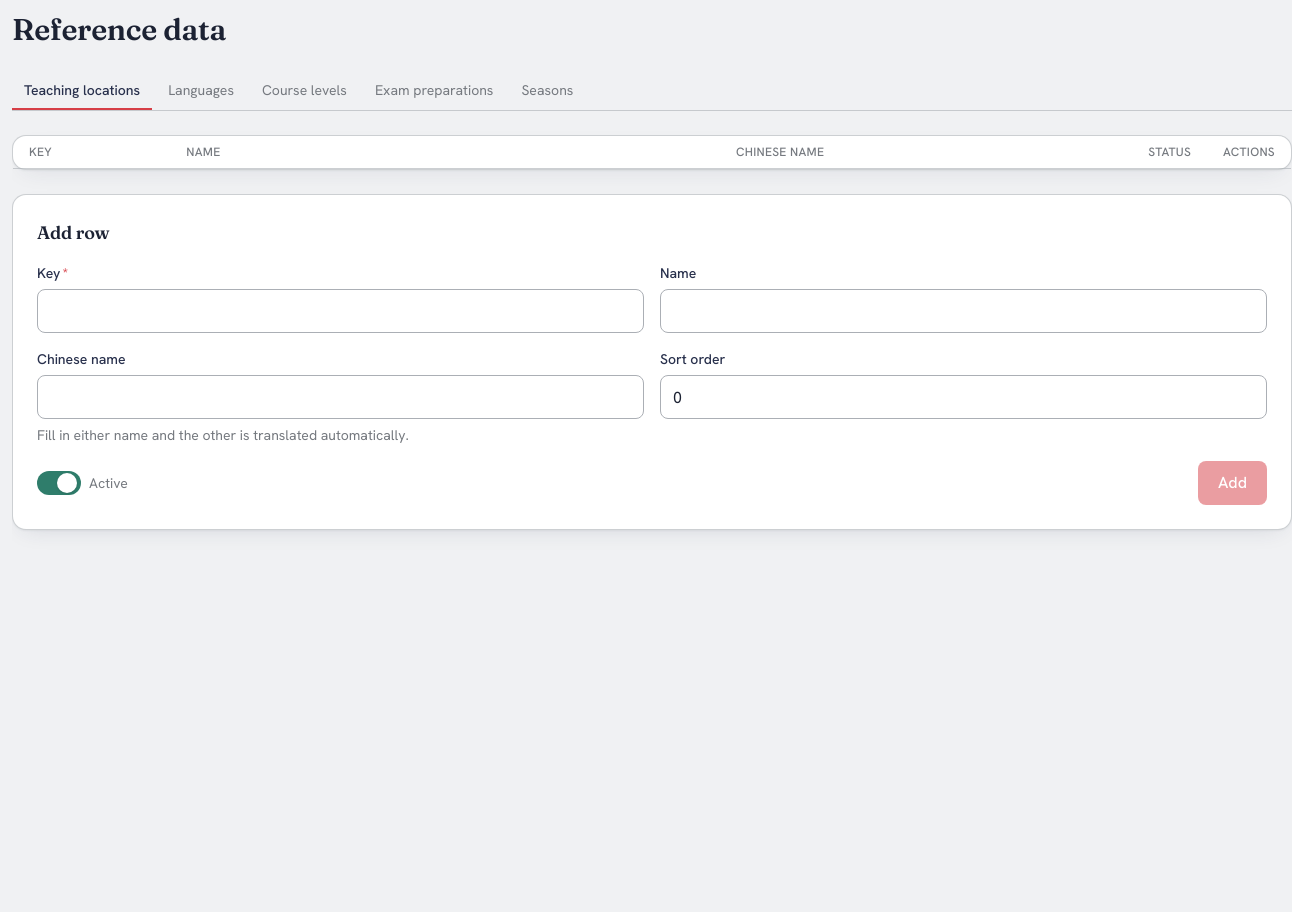
Test: ReferenceManagerPage seasons › adds a season, prefilling Nov 1 to Apr 30 from the key
The width and height of the screenshot is (1292, 912).
Step 1. Click the button "Seasons" → (547, 91), box [510,72,585,110]
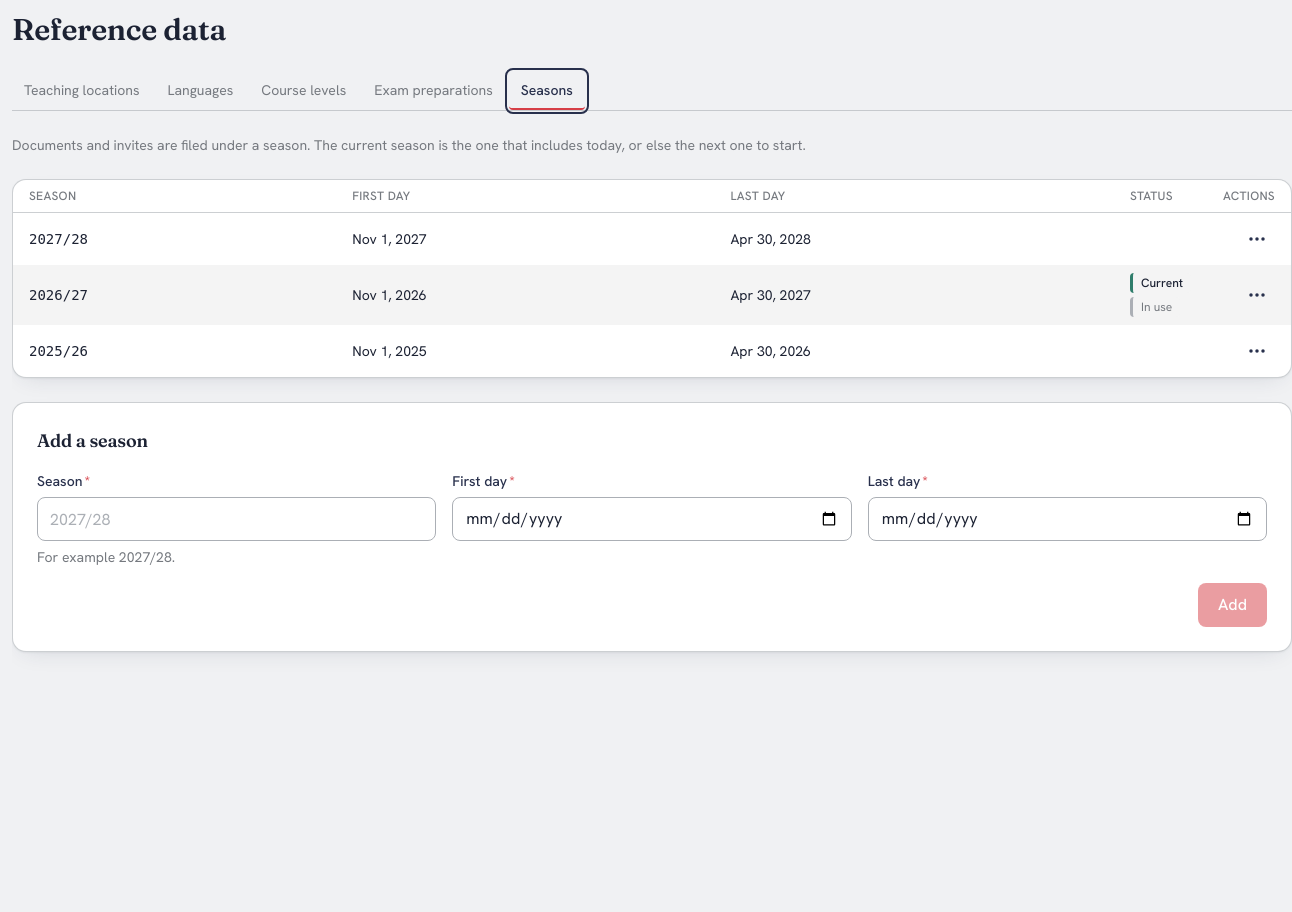
Expected: the table named "Seasons" is shown, [13,180,1291,377]
Step 2. Type "2028" into the field labelled "Season*" → (237, 519), box [37,497,436,541]
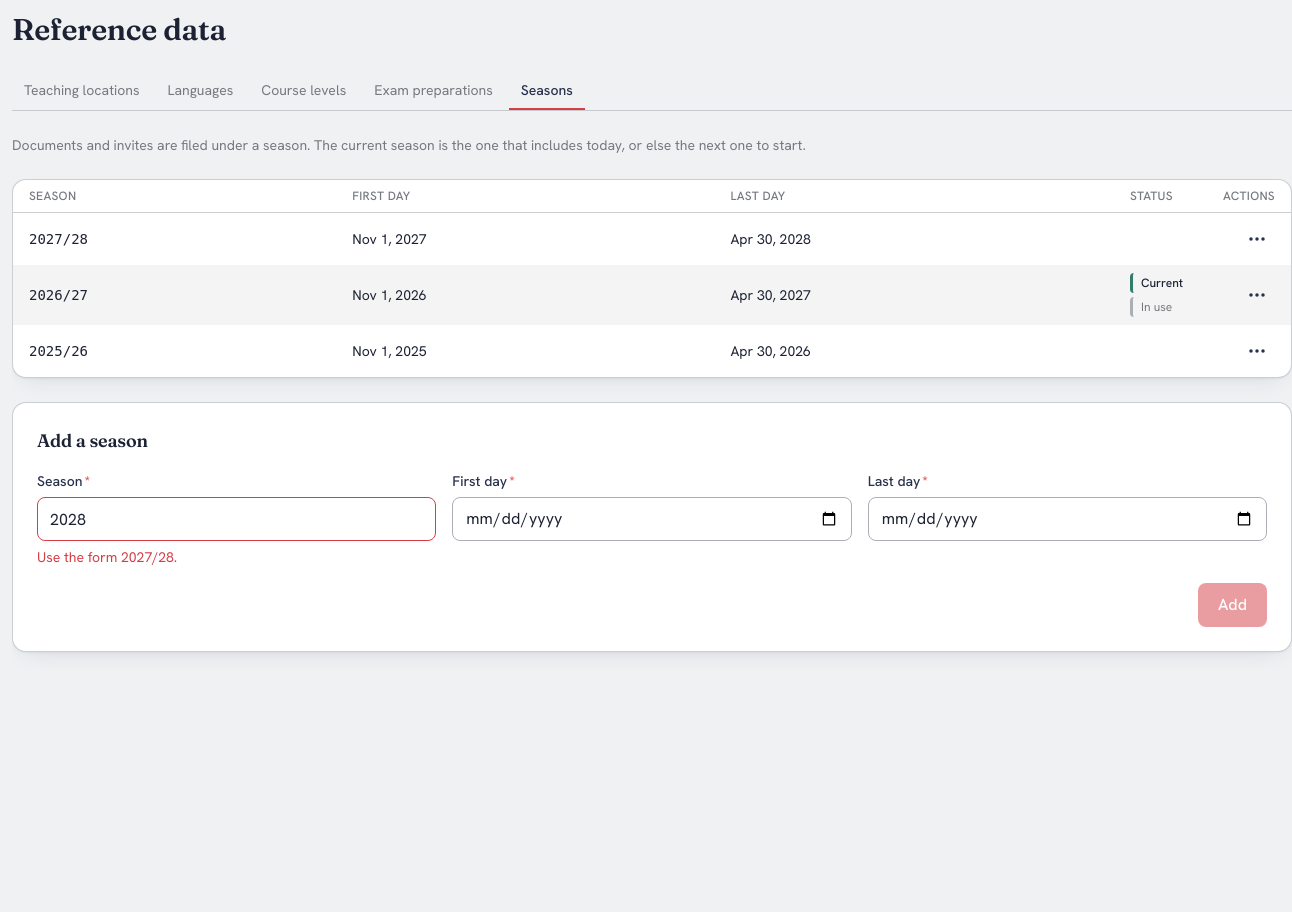
Expected: the button named "Add" is disabled, [1198,583,1267,627]
Expected: the text "Use the form 2027/28." is shown, [37,548,177,566]
Step 3. Type "/29" into the field labelled "Season*" → (237, 519), box [37,497,436,541]
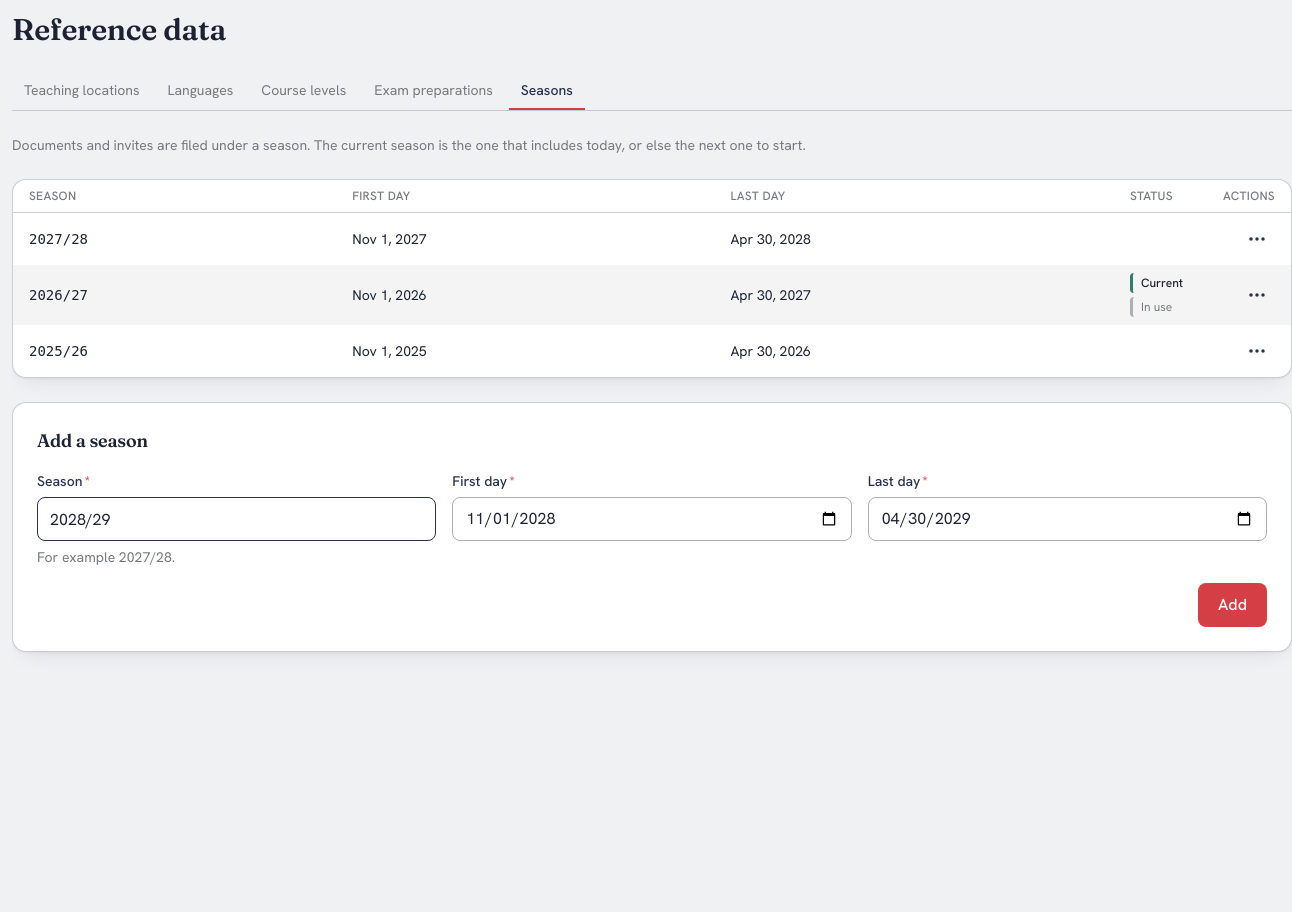
Expected: the date field labelled "First day*" holds "2028-11-01", [452,497,852,541]
Expected: the date field labelled "Last day*" holds "2029-04-30", [868,497,1267,541]
Step 4. Click the button named "Add" → (1232, 605), box [1198,583,1267,627]
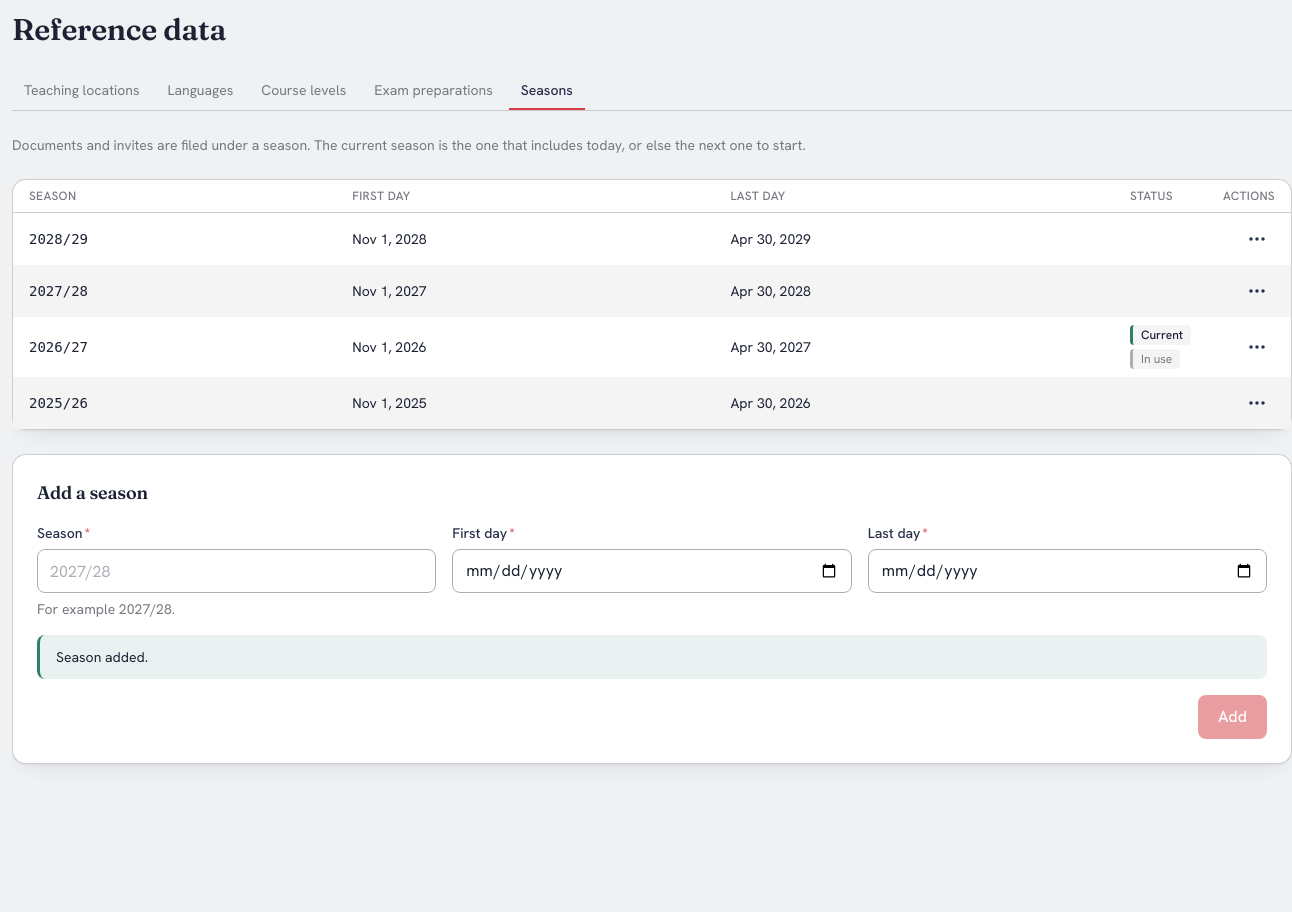
Expected: the text "Season added." is shown, [56,648,148,666]
Expected: the cell "2028/29" is shown, [13,212,336,265]
Expected: the field labelled "Season*" is empty, [37,549,436,593]
